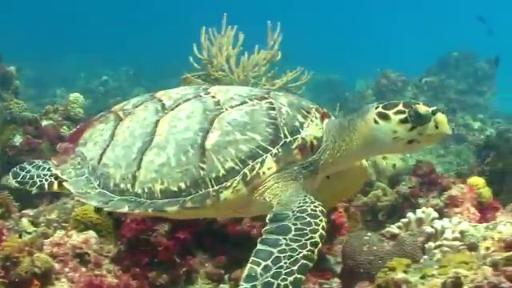Fish: (9, 86, 451, 287)
